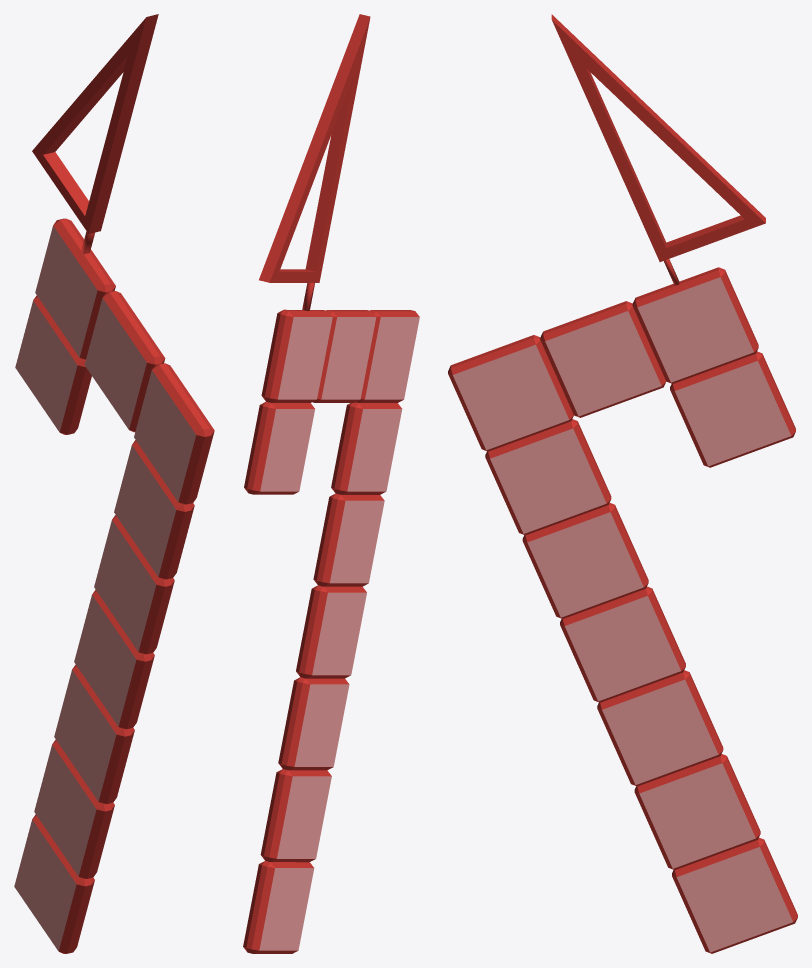
The model's file is heart3D-1.glb.
3 views of the same model, side by side, from view 1: azimuth 30°, elevation 25°; view 2: azimuth 150°, elevation 25°; view 3: azimuth 270°, elevation 25° (orthographic). The views are drawn at different scales.
Visible parts, largest first — view 1: Cube.018; view 2: Cube.018; view 3: Cube.018.
Part boxes in pixels (x1=…): Cube.018: x1=14, y1=14, x2=214, y2=953; Cube.018: x1=243, y1=14, x2=419, y2=953; Cube.018: x1=448, y1=14, x2=797, y2=953.
Bounding box in the file's own units: 0.02 × 1.04 × 0.3512.
